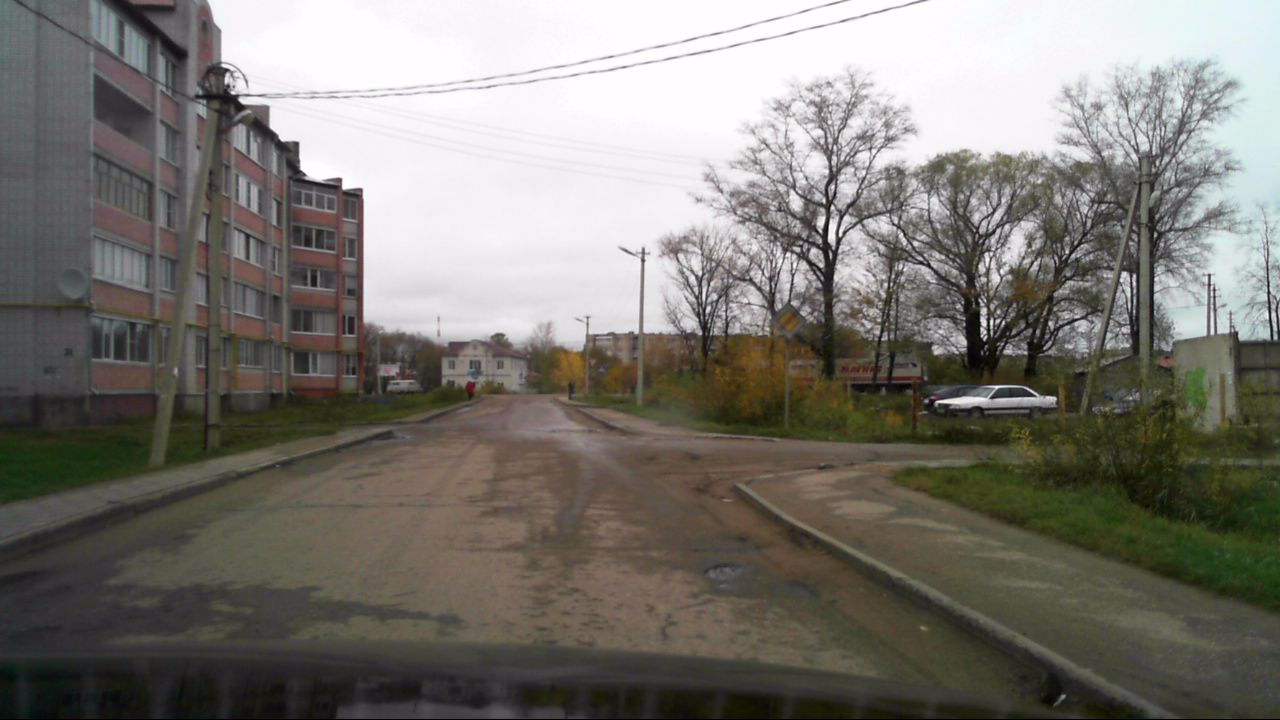main road: (769, 303, 807, 339)
